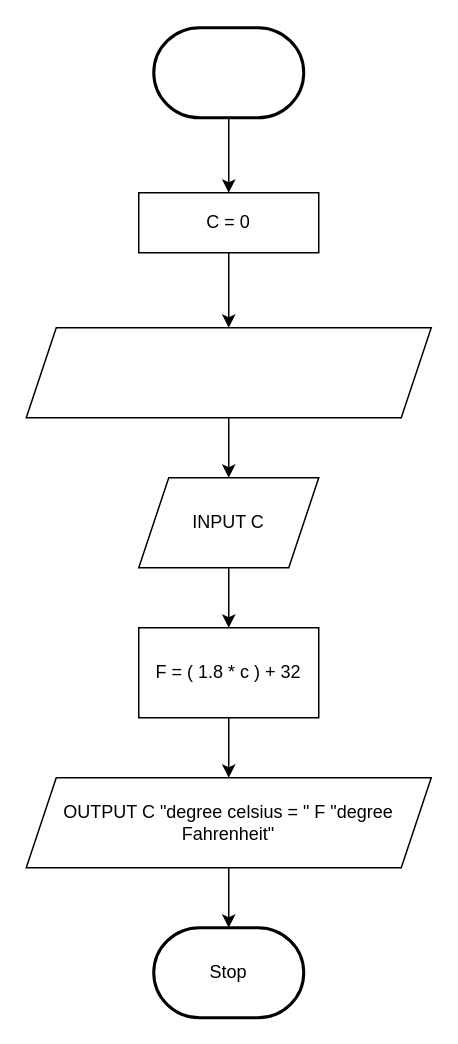
Some shapes in this 458 by 1044 pixel diagram are drawn without their labels. Each missing label, with the centre of its shape:
OUTPUT "Enter Value degree Celsisus: ": the point at 228,372
Start: the point at 228,72
